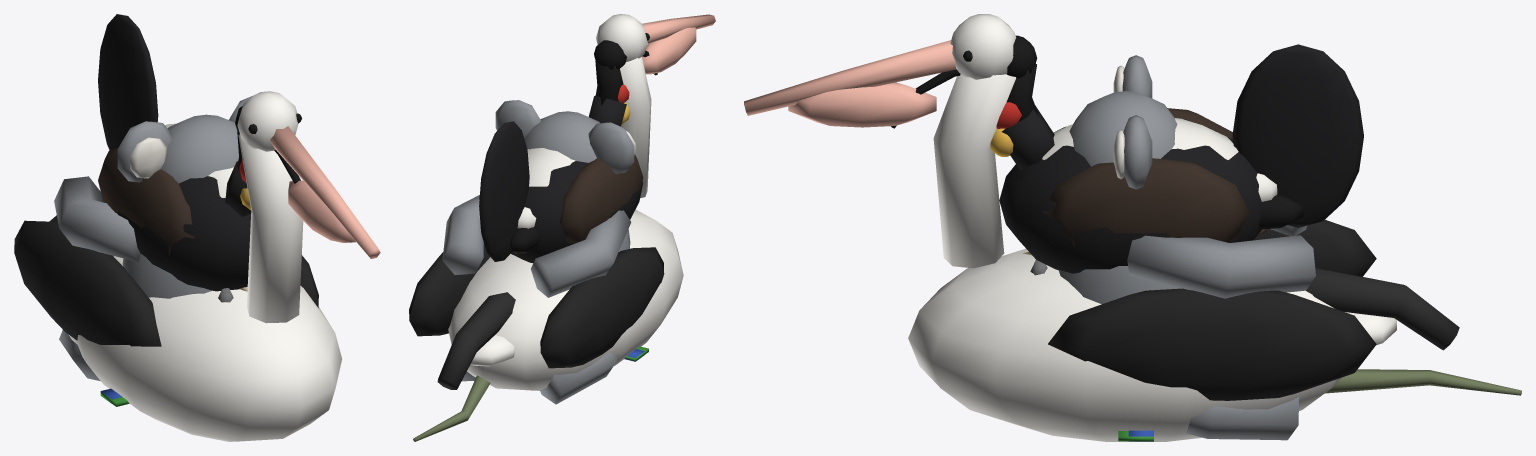
File: wildlife.glb
The picture shows the model from 3 angles, left to right: view 1: azimuth 30°, elevation 25°; view 2: azimuth 150°, elevation 25°; view 3: azimuth 270°, elevation 25°; orthographic projection. The views are drawn at different scales.
Parts seen in each view (by area): view 1: Pelican_Body, Head_Parts.007, BushTurkey_Body, Koala_Body, Head_Parts.008, Tail_Mesh, Head_Parts.001, Ibis_Body; view 2: Pelican_Body, Koala_Body, BushTurkey_Body, Head_Parts.007, Head_Parts.008, Tail_Mesh, Tail_Mesh.008, Head_Parts.001, Ibis_Body, Tail_Mesh.009, Tail_Mesh.007, Tail_Mesh.001; view 3: Pelican_Body, BushTurkey_Body, Head_Parts.007, Tail_Mesh, Koala_Body, Head_Parts.008, Tail_Mesh.008, Tail_Mesh.009, Head_Parts.001, Ibis_Body, Tail_Mesh.001, Head_Parts (+1 smaller).
Part boxes in pixels (x1,y1,x2,y2): Pelican_Body: (14, 220, 341, 441); Head_Parts.007: (237, 91, 380, 323); BushTurkey_Body: (98, 147, 251, 291); Koala_Body: (54, 176, 211, 381); Head_Parts.008: (117, 95, 253, 183); Tail_Mesh: (98, 14, 158, 150); Head_Parts.001: (235, 106, 300, 183); Ibis_Body: (165, 123, 233, 197); Pelican_Body: (409, 209, 683, 390); Koala_Body: (442, 195, 631, 404); BushTurkey_Body: (479, 95, 643, 262); Head_Parts.007: (596, 14, 715, 198); Head_Parts.008: (495, 100, 635, 173); Tail_Mesh: (479, 121, 529, 261); Tail_Mesh.008: (437, 292, 515, 389); Head_Parts.001: (594, 40, 657, 105); Ibis_Body: (527, 148, 575, 186); Tail_Mesh.009: (413, 375, 490, 441); Tail_Mesh.007: (470, 335, 514, 366); Tail_Mesh.001: (510, 207, 539, 252); Pelican_Body: (908, 219, 1376, 441); BushTurkey_Body: (999, 105, 1261, 273); Head_Parts.007: (744, 14, 1016, 268); Tail_Mesh: (1232, 44, 1363, 227); Koala_Body: (1059, 225, 1315, 440); Head_Parts.008: (1069, 55, 1177, 189); Tail_Mesh.008: (1306, 267, 1459, 350); Tail_Mesh.009: (1325, 369, 1521, 395); Head_Parts.001: (891, 35, 1039, 128); Ibis_Body: (1042, 118, 1238, 159); Tail_Mesh.001: (1256, 173, 1303, 229); Head_Parts: (990, 102, 1021, 156).
Bounding box in the file's own units: 0.5189 × 0.895 × 1.54.
